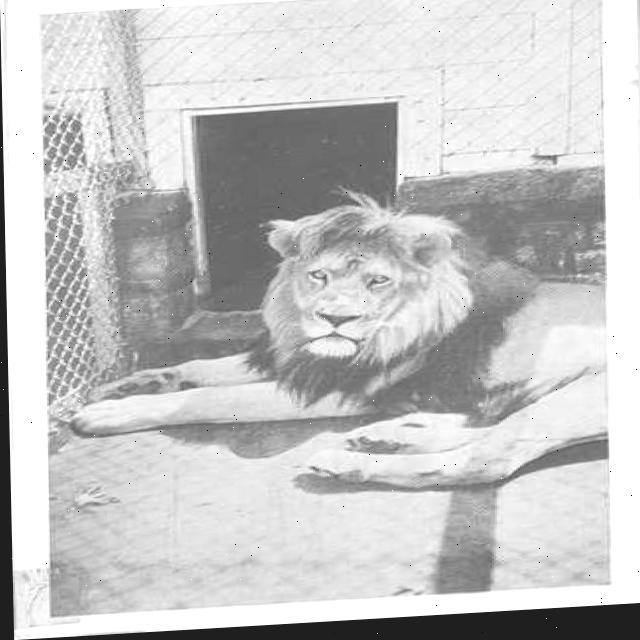Lion: (163, 146, 574, 498)
